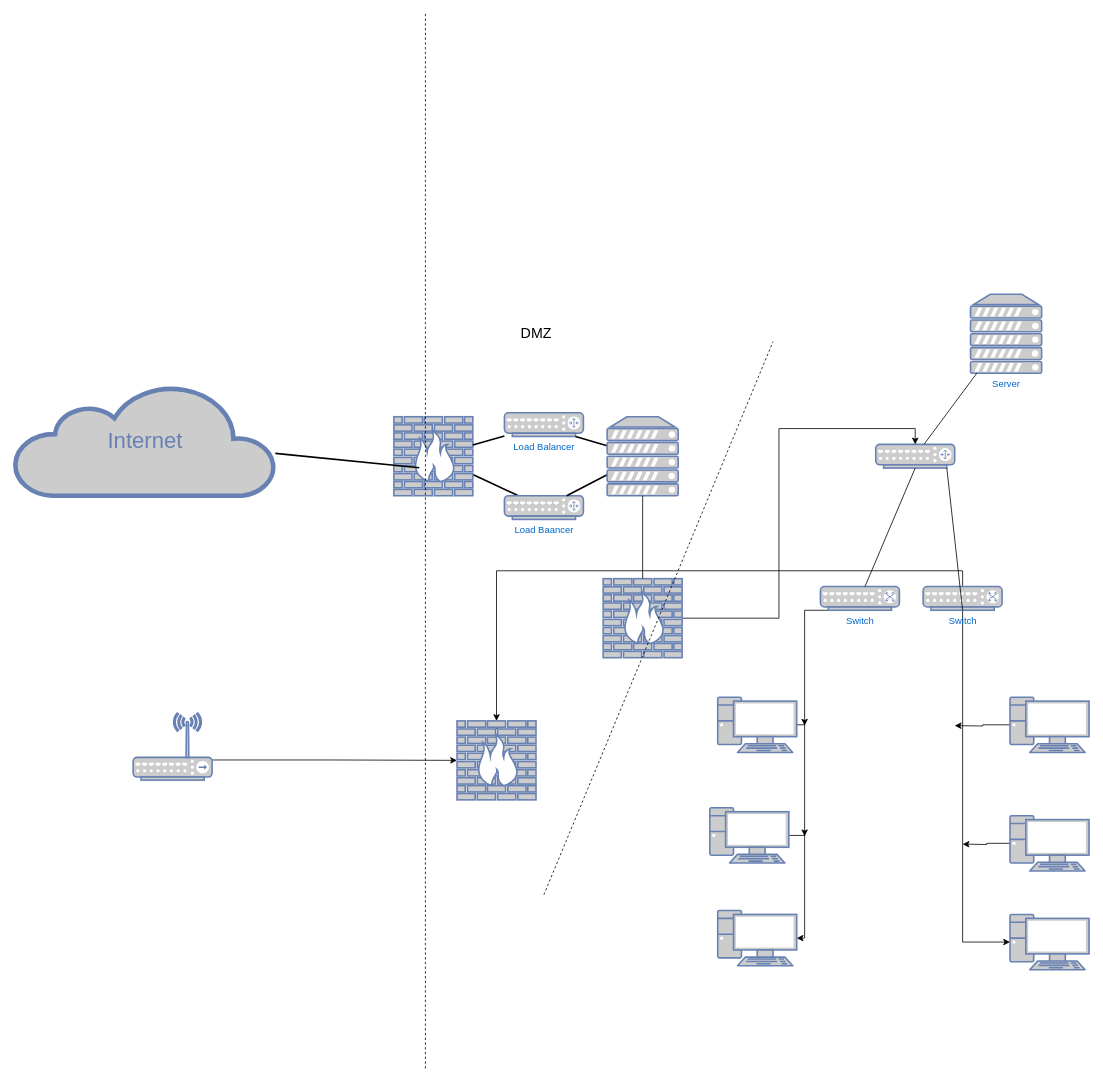
The diagram is 1103 pixels wide and 1083 high, and some of its shapes have lost their labels. Here are the shapes that lost their labels. From the top down, the centre of each, then its label:
At [433,456]: "Fiirewall".
At [915,455]: "Router".
At [172,746]: "Wireless Access Point".
